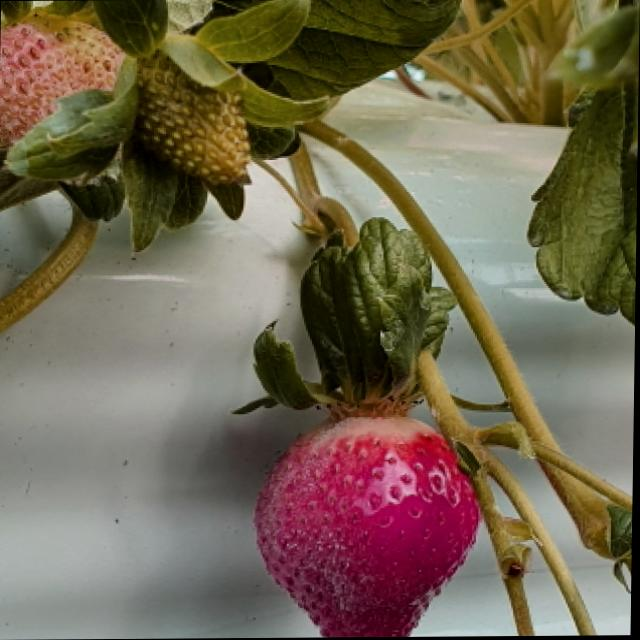Powdery Mildew Fruit: (249, 419, 395, 633)
